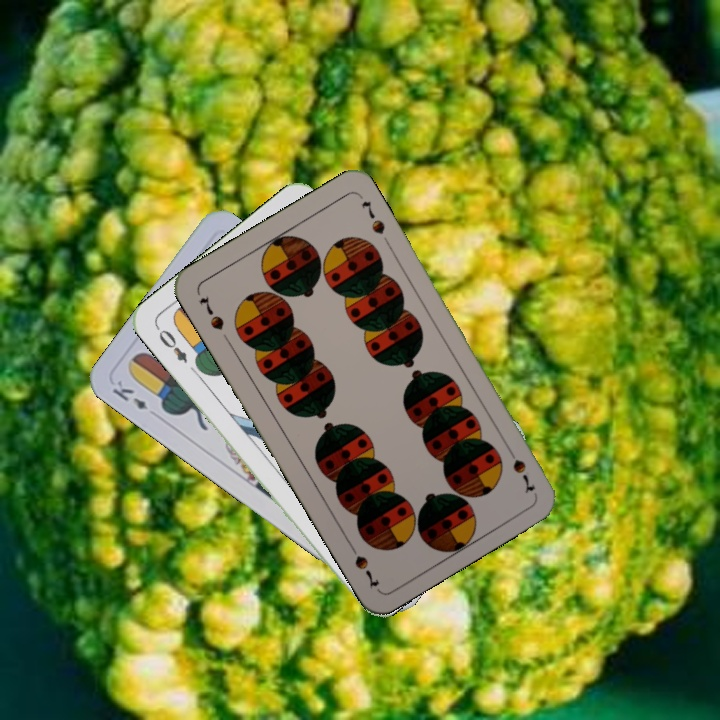EK: (108, 376, 150, 413)
EO: (154, 325, 191, 366)
S7: (502, 441, 538, 496), (195, 292, 227, 333)
